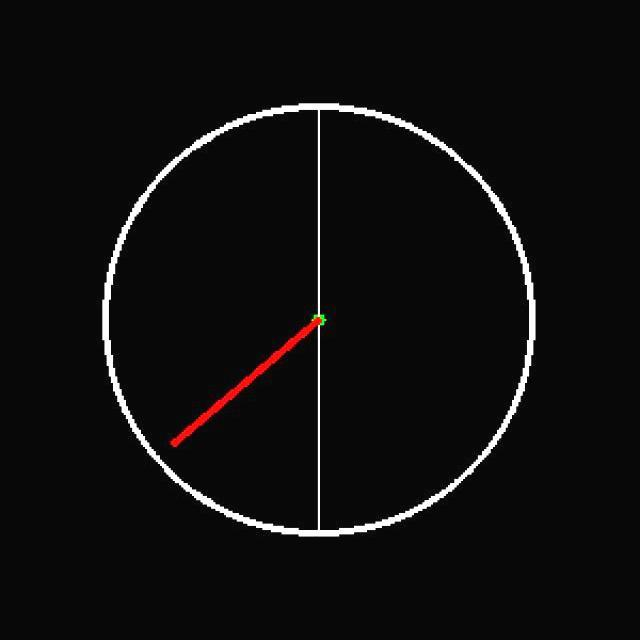Needle_Tip: (141, 407, 216, 468)
Needle_base: (274, 279, 360, 353)
